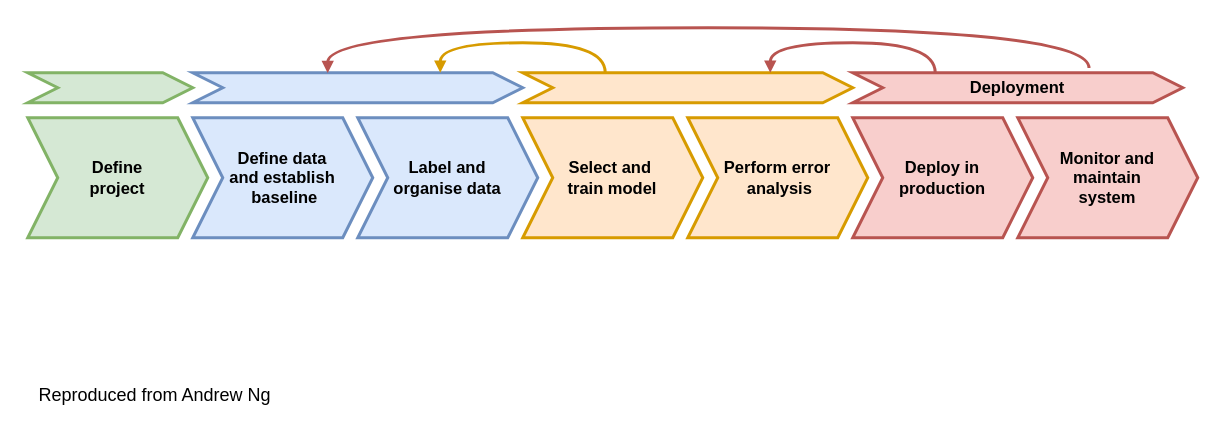
Some shapes in this 1224 by 443 pixel diagram are drawn without their labels. The box of each missing label's shape, as (x1, y1, x2, y2) in pixels:
Data: (190, 70, 524, 104)
Modelling: (520, 70, 854, 104)
Scoping: (26, 70, 194, 104)
